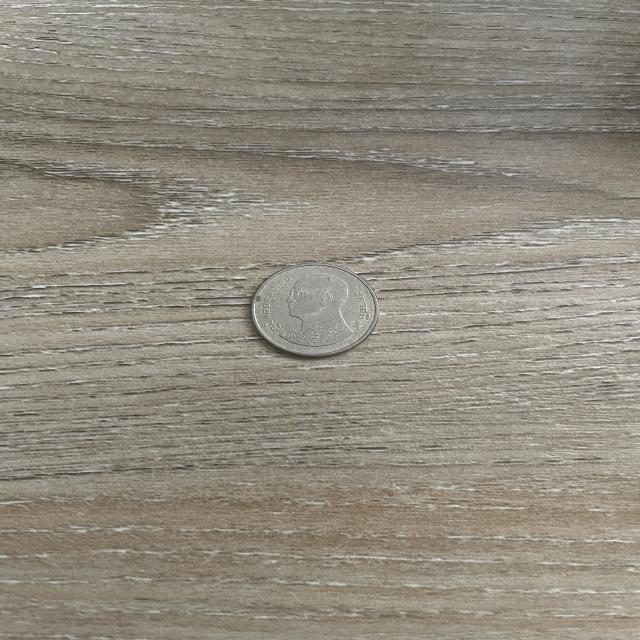1 Bath: (241, 257, 390, 362)
